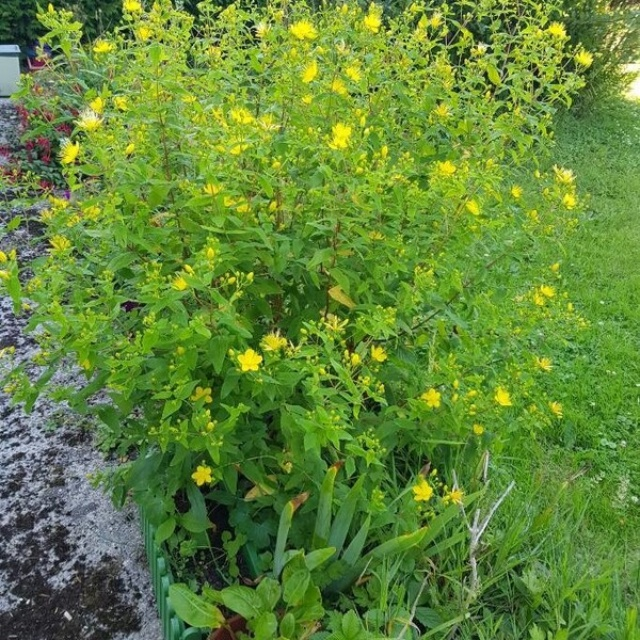obstacle: (71, 47, 499, 507)
